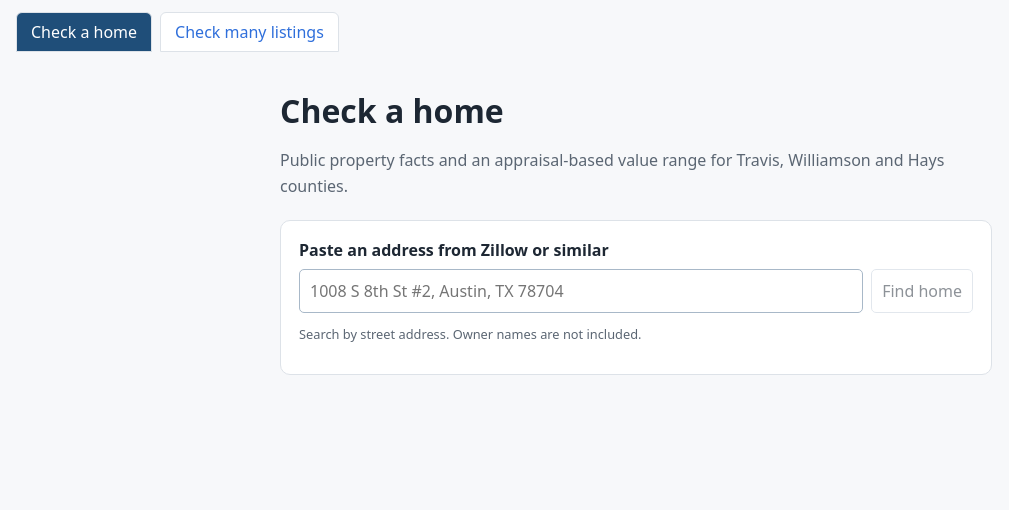
Test: handles no match with the normalized form and a retry hint
The width and height of the screenshot is (1009, 510).
Type "100 North Test Street #2, Austin TX 78704" into the search field at (581, 291), box [299, 269, 863, 313]
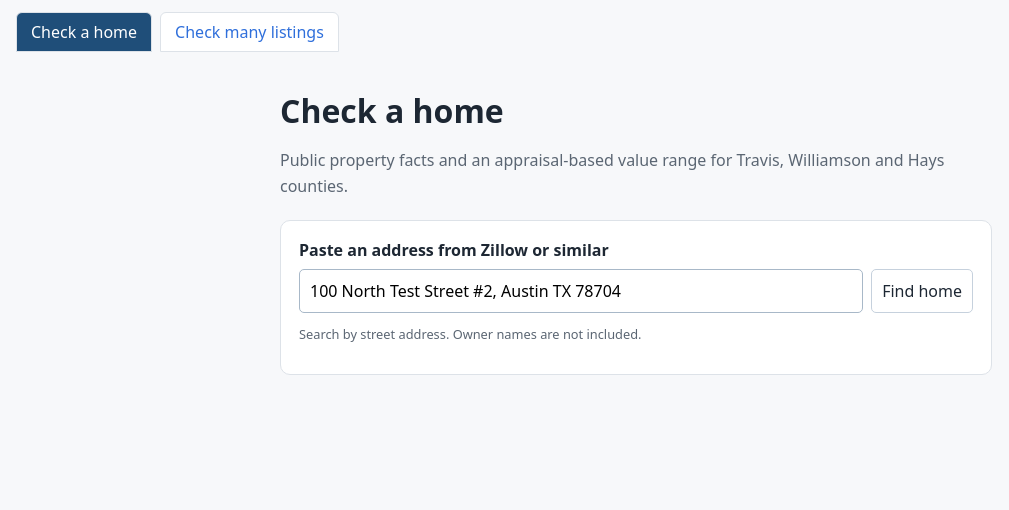
Submit the form, box [280, 220, 992, 375]
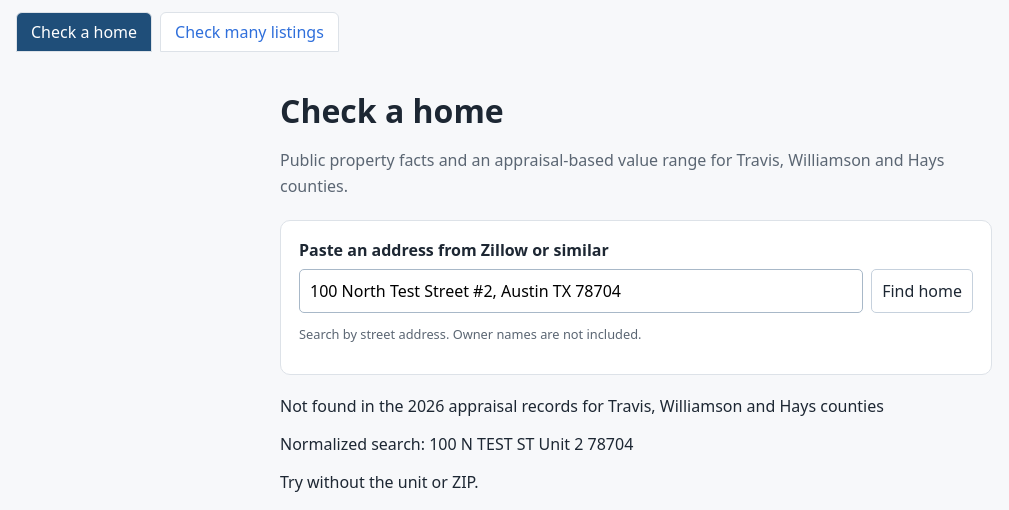
Now the text "Not found in the 2026" is shown, box [280, 395, 884, 417]
Now the text "Normalized search: 100 N TEST ST Unit 2 78704" is shown, box [280, 433, 633, 455]
Now the text "Try without the unit or ZIP." is shown, box [280, 471, 478, 493]
